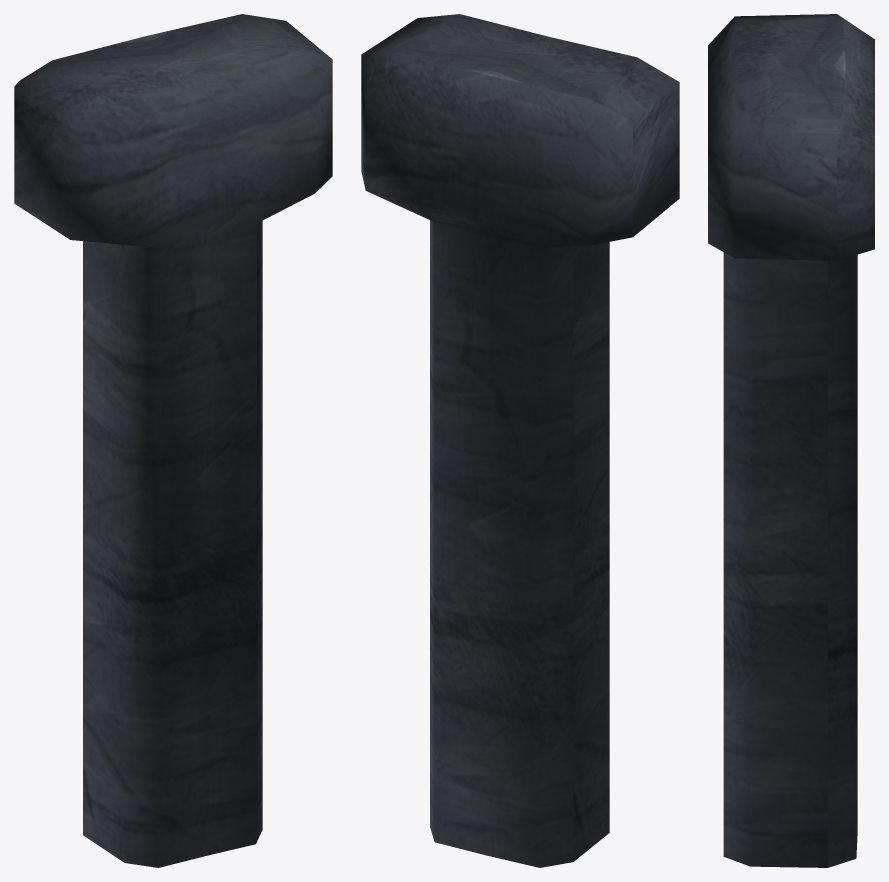
The model's file is StandColumn02.glb.
3 renders of one model, left to right at view 1: azimuth 30°, elevation 25°; view 2: azimuth 150°, elevation 25°; view 3: azimuth 270°, elevation 25°, orthographic.
Parts seen in each view (by area): view 1: StandColumn02; view 2: StandColumn02; view 3: StandColumn02.
Boxes of the visible parts, x1,y1,x2,y2 form: StandColumn02: (14,14,332,867); StandColumn02: (361,14,679,867); StandColumn02: (708,14,874,867).
Size of what is drawn, in the model's own units: 1.89 by 5.13 by 1.01.
1 material, 1 textured.
